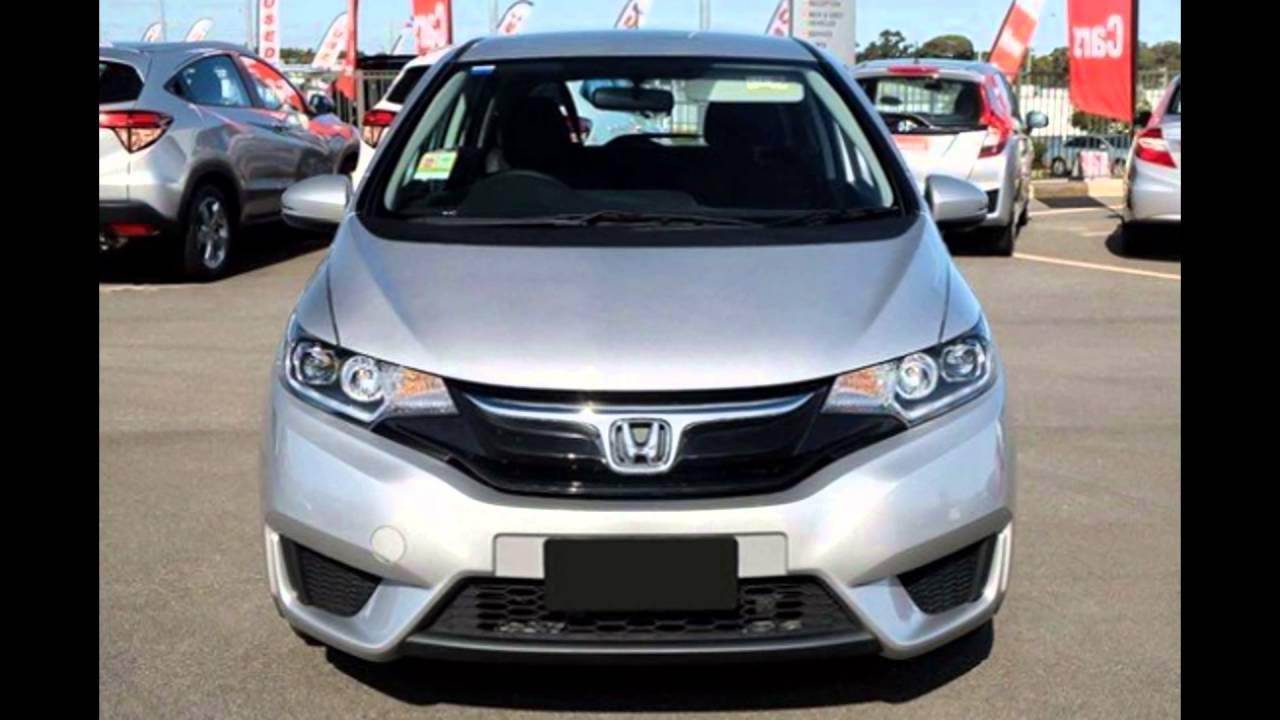Hatchback: (238, 6, 1042, 711)
